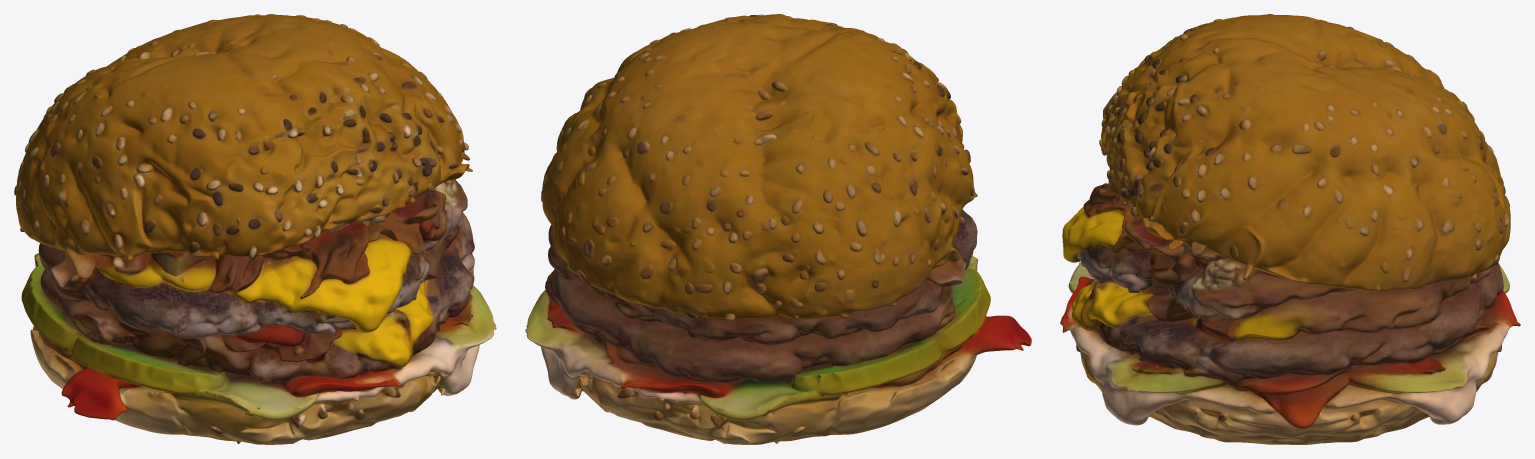
Rendered from havaiano.glb.
3 views of the same model, side by side, from view 1: azimuth 30°, elevation 25°; view 2: azimuth 150°, elevation 25°; view 3: azimuth 270°, elevation 25° (orthographic). The views are drawn at different scales.
Visible parts, largest first — view 1: tripo_node_54bea660-dfe0-4b9f-a878-a26358562ec0; view 2: tripo_node_54bea660-dfe0-4b9f-a878-a26358562ec0; view 3: tripo_node_54bea660-dfe0-4b9f-a878-a26358562ec0.
Part boxes in pixels (x1=…): tripo_node_54bea660-dfe0-4b9f-a878-a26358562ec0: x1=14, y1=14, x2=496, y2=444; tripo_node_54bea660-dfe0-4b9f-a878-a26358562ec0: x1=525, y1=14, x2=1031, y2=444; tripo_node_54bea660-dfe0-4b9f-a878-a26358562ec0: x1=1060, y1=14, x2=1520, y2=444.
Bounding box in the file's own units: 0.12 × 0.0853 × 0.1128.
1 material, 1 textured.
